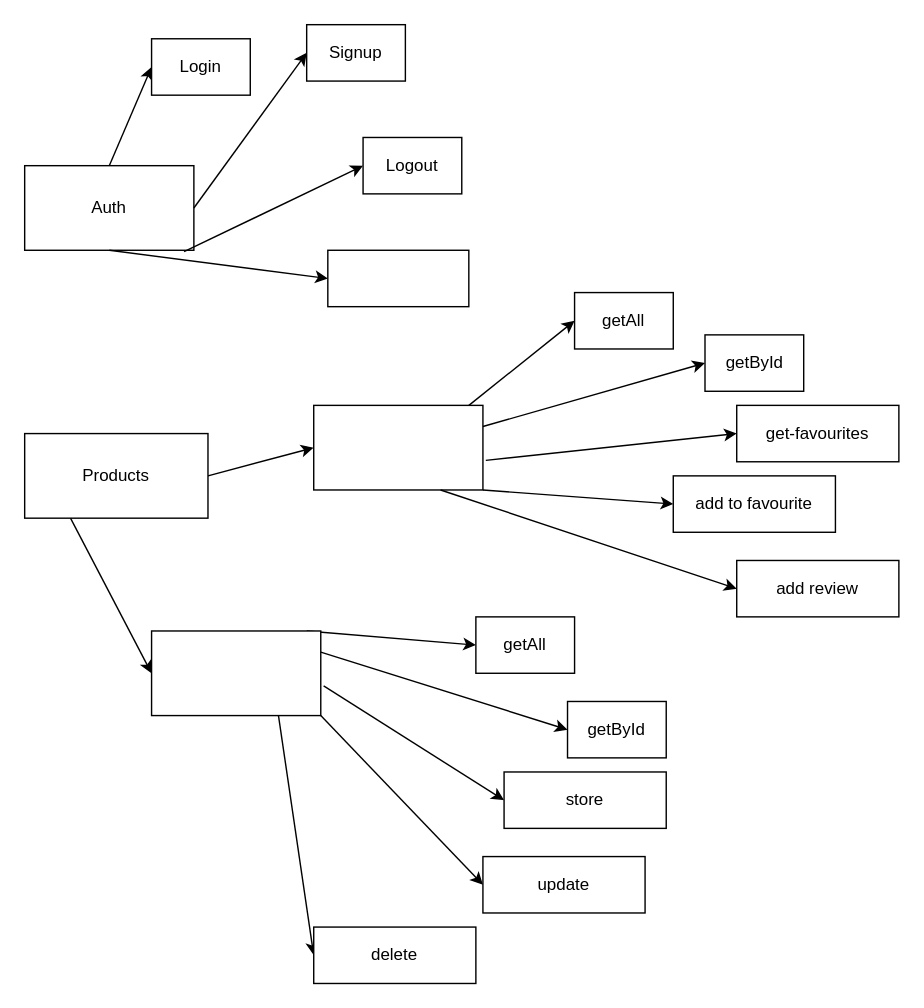
The diagram is 924 pixels wide and 1008 high, and some of its shapes have lost their labels. The shapes that lost their labels are listed below. From the top down, each one's box as (x1, y1, x2, y2) in pixels, then its label:
(326, 249, 469, 307): getLoggedIn
(312, 404, 483, 490): Frontend
(150, 630, 321, 716): Admin
